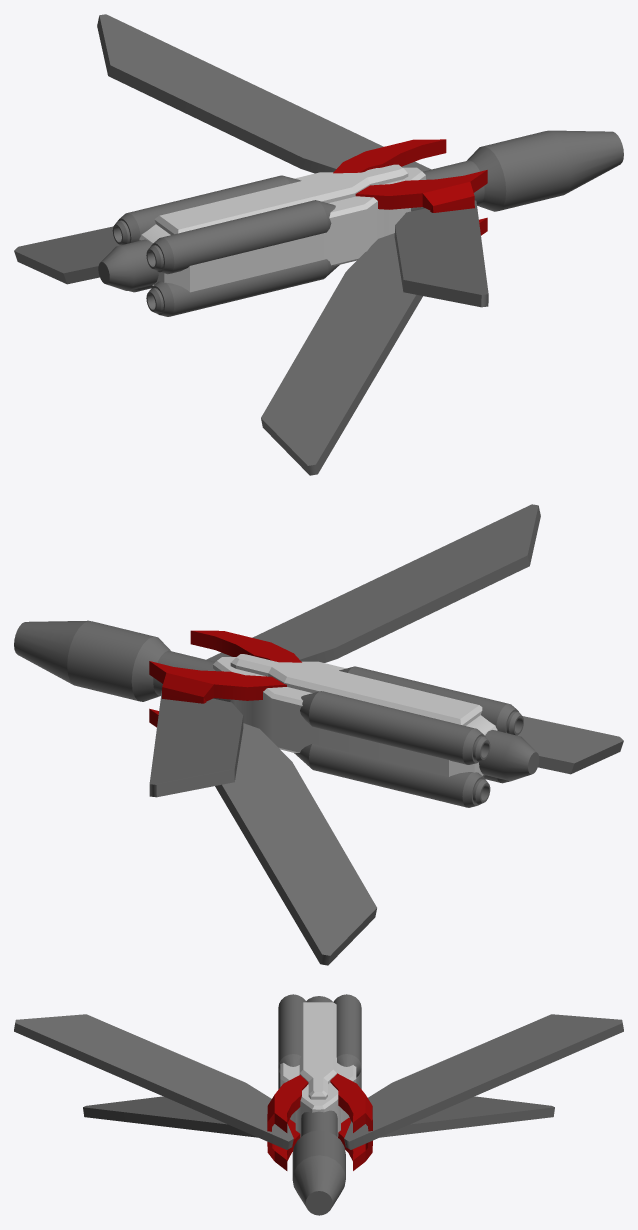
Rendered from DroneA.fbx.
3 views of the same model, one above another, from view 1: azimuth 30°, elevation 25°; view 2: azimuth 150°, elevation 25°; view 3: azimuth 270°, elevation 25° (orthographic). The views are drawn at different scales.
Visible parts, largest first — view 1: DroneA; view 2: DroneA; view 3: DroneA.
Part boxes in pixels (box(x1,y1,x2,y2)): DroneA: box(14, 14, 623, 475); DroneA: box(14, 504, 623, 965); DroneA: box(14, 994, 623, 1215).
Bounding box in the file's own units: 151 × 51.53 × 197.
